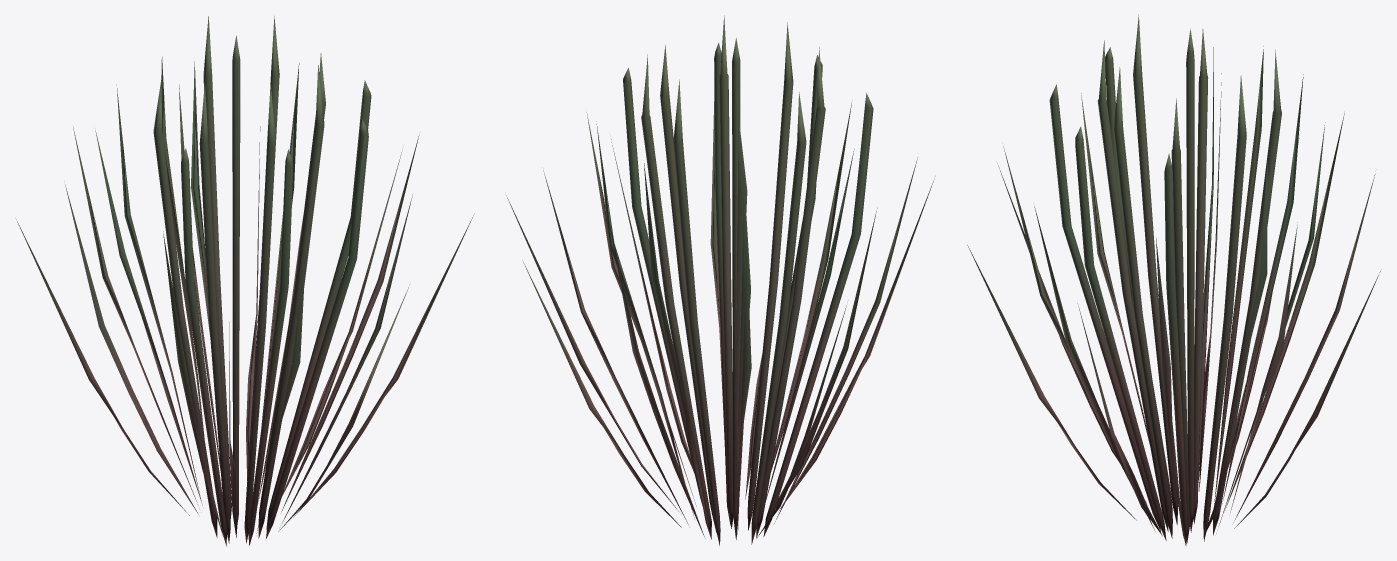
File: trees-grasses-ornamental-grass_v3.fbx
The picture shows the model from 3 angles, left to right: view 1: azimuth 30°, elevation 25°; view 2: azimuth 150°, elevation 25°; view 3: azimuth 270°, elevation 25°; orthographic projection.
Visible parts, largest first — view 1: Ornamental Grass_v3; view 2: Ornamental Grass_v3; view 3: Ornamental Grass_v3.
Boxes of the visible parts, <box> form: Ornamental Grass_v3: <box>16,16,474,546</box>; Ornamental Grass_v3: <box>506,15,935,545</box>; Ornamental Grass_v3: <box>967,14,1381,545</box>.
Size of the model in its own units: 0.4601 by 0.6 by 0.4489.
